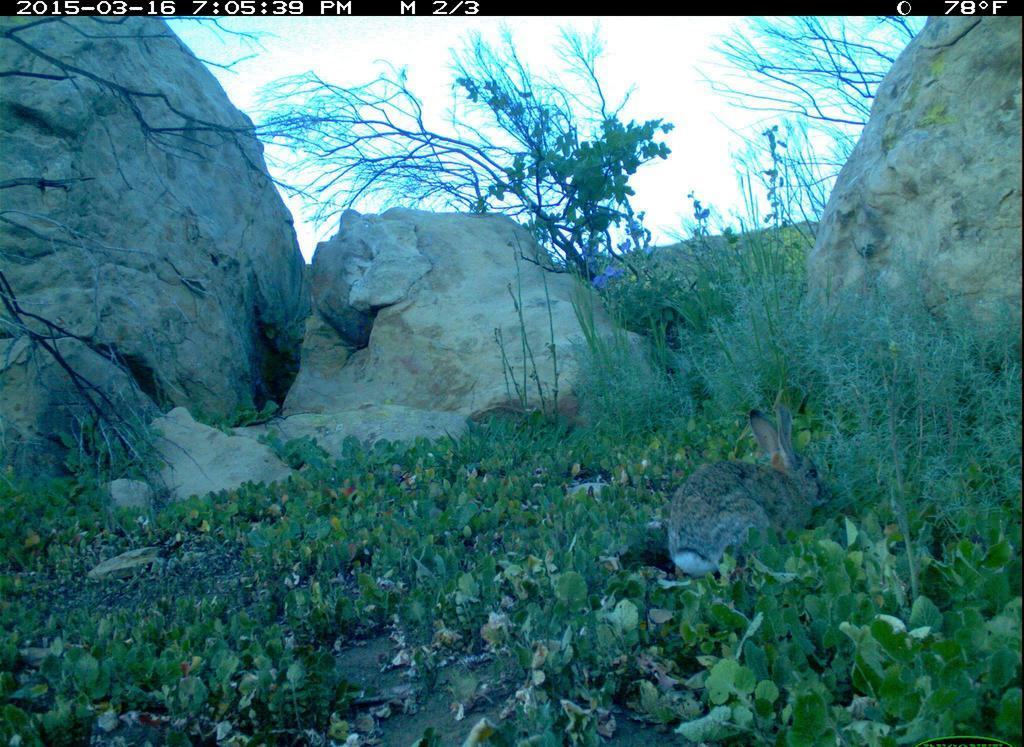rabbit: (666, 402, 829, 579)
